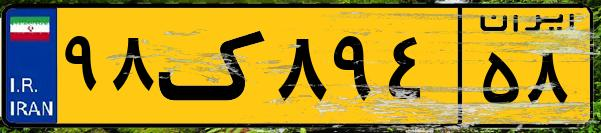4: (385, 28, 445, 110)
5: (475, 38, 525, 113)
8: (270, 28, 330, 110), (525, 38, 570, 115), (110, 28, 158, 98)
9: (330, 28, 385, 110), (57, 26, 110, 100)
ک: (158, 12, 270, 120)
